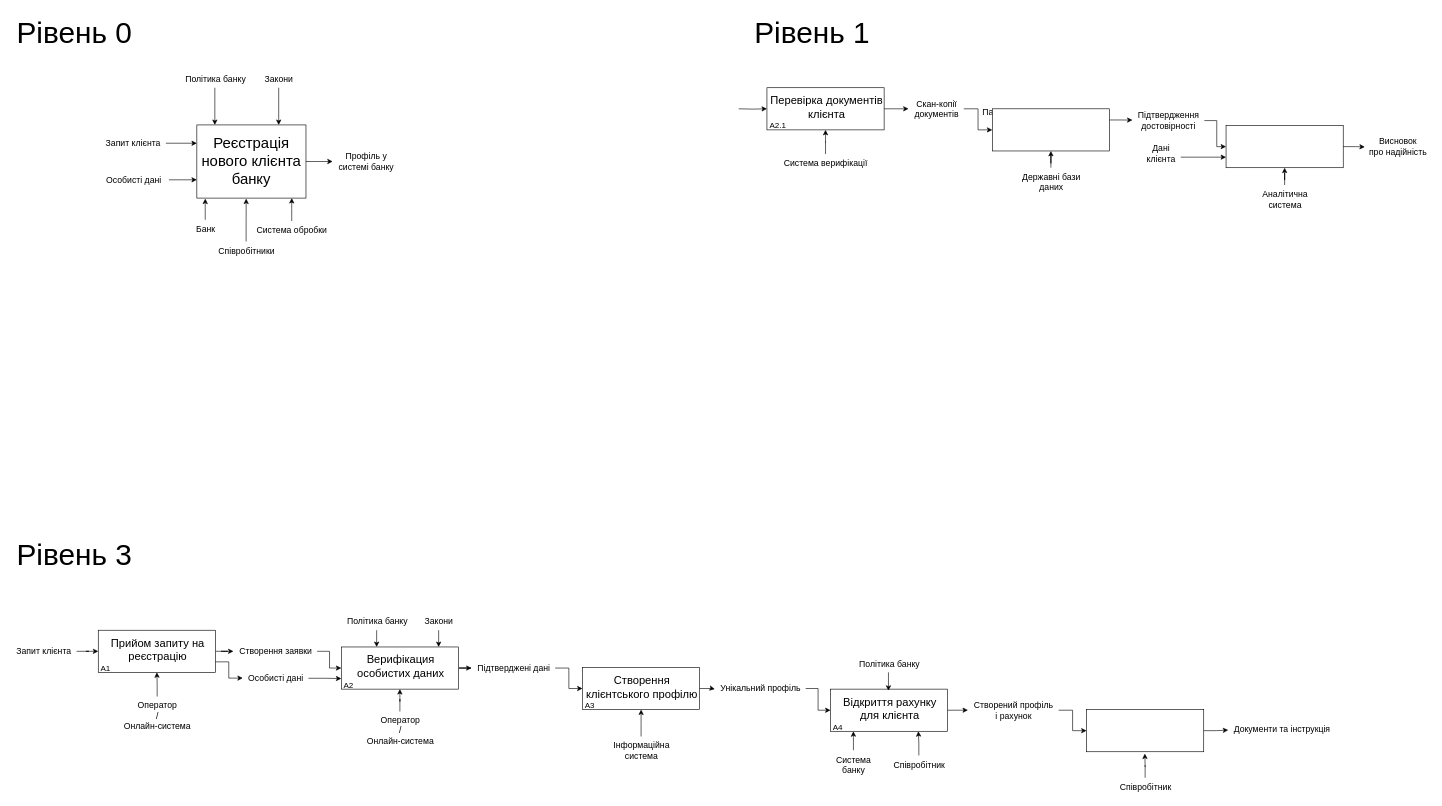
Some shapes in this 1442 by 806 pixel diagram are drawn without their labels. Each missing label, with the box of its shape:
Завершення та надання реквізитів А5: (1086, 709, 1204, 752)
Оцінка ризиків клієнта А2.3: (1225, 125, 1343, 168)
Перевірка документів клієнта А2.2: (992, 108, 1109, 151)
